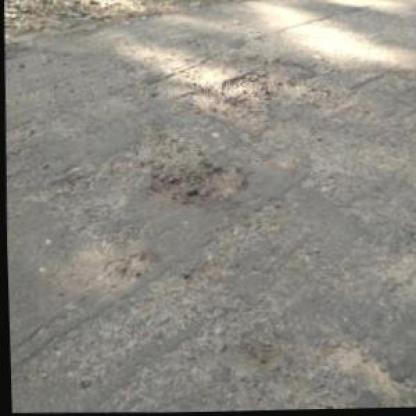pothole: (140, 158, 248, 215), (186, 72, 273, 125), (101, 250, 158, 282)
